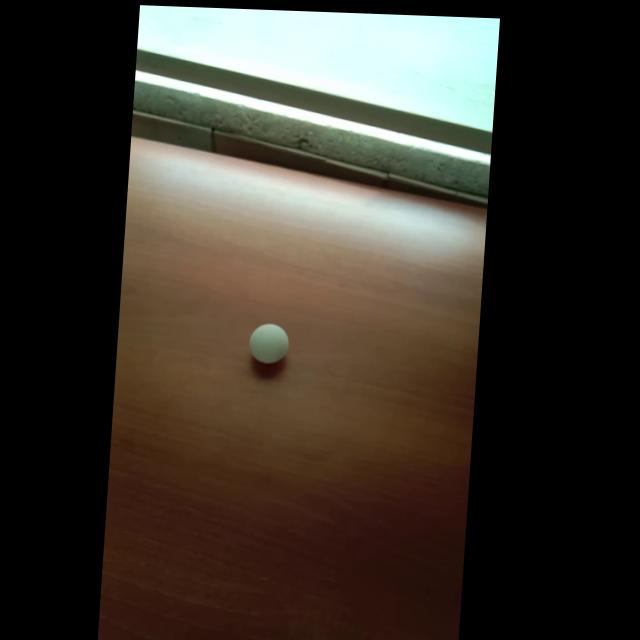white ball: (247, 322, 290, 366)
